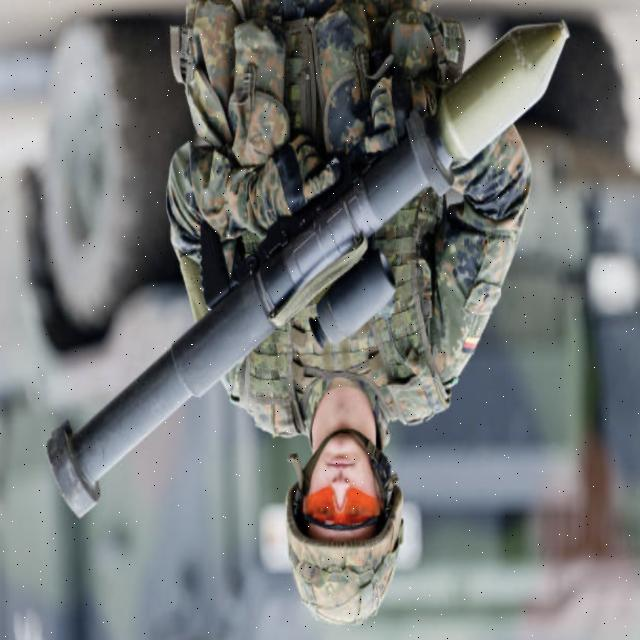bazooka: (39, 4, 583, 521)
